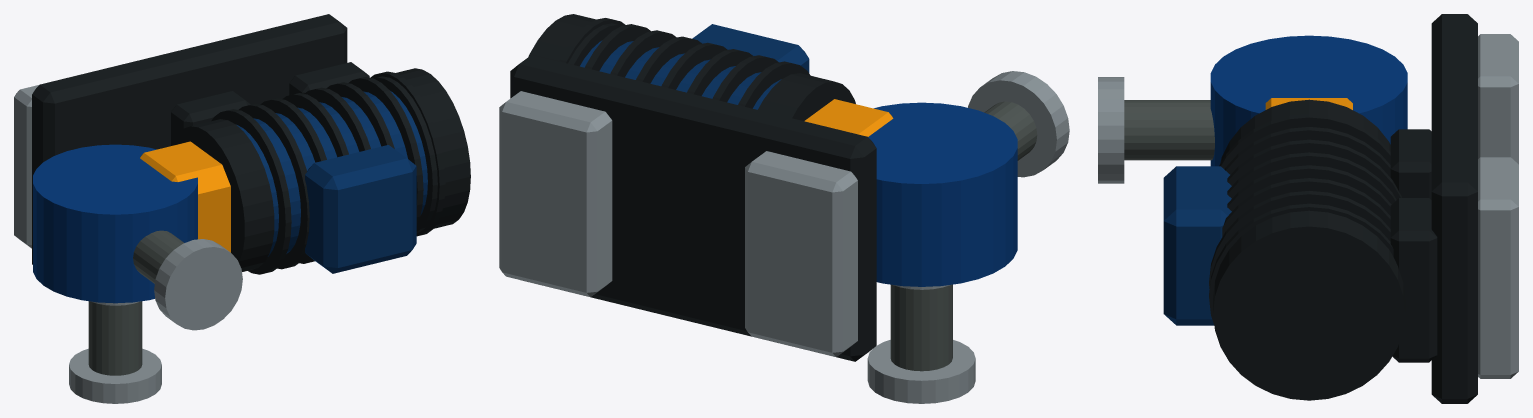
File: pump.obj
3 views of the same model, side by side, from view 1: azimuth 30°, elevation 25°; view 2: azimuth 150°, elevation 25°; view 3: azimuth 270°, elevation 25° (orthographic). The views are drawn at different scales.
Bounding box in the file's own units: 0.915 × 0.5725 × 0.7225.
